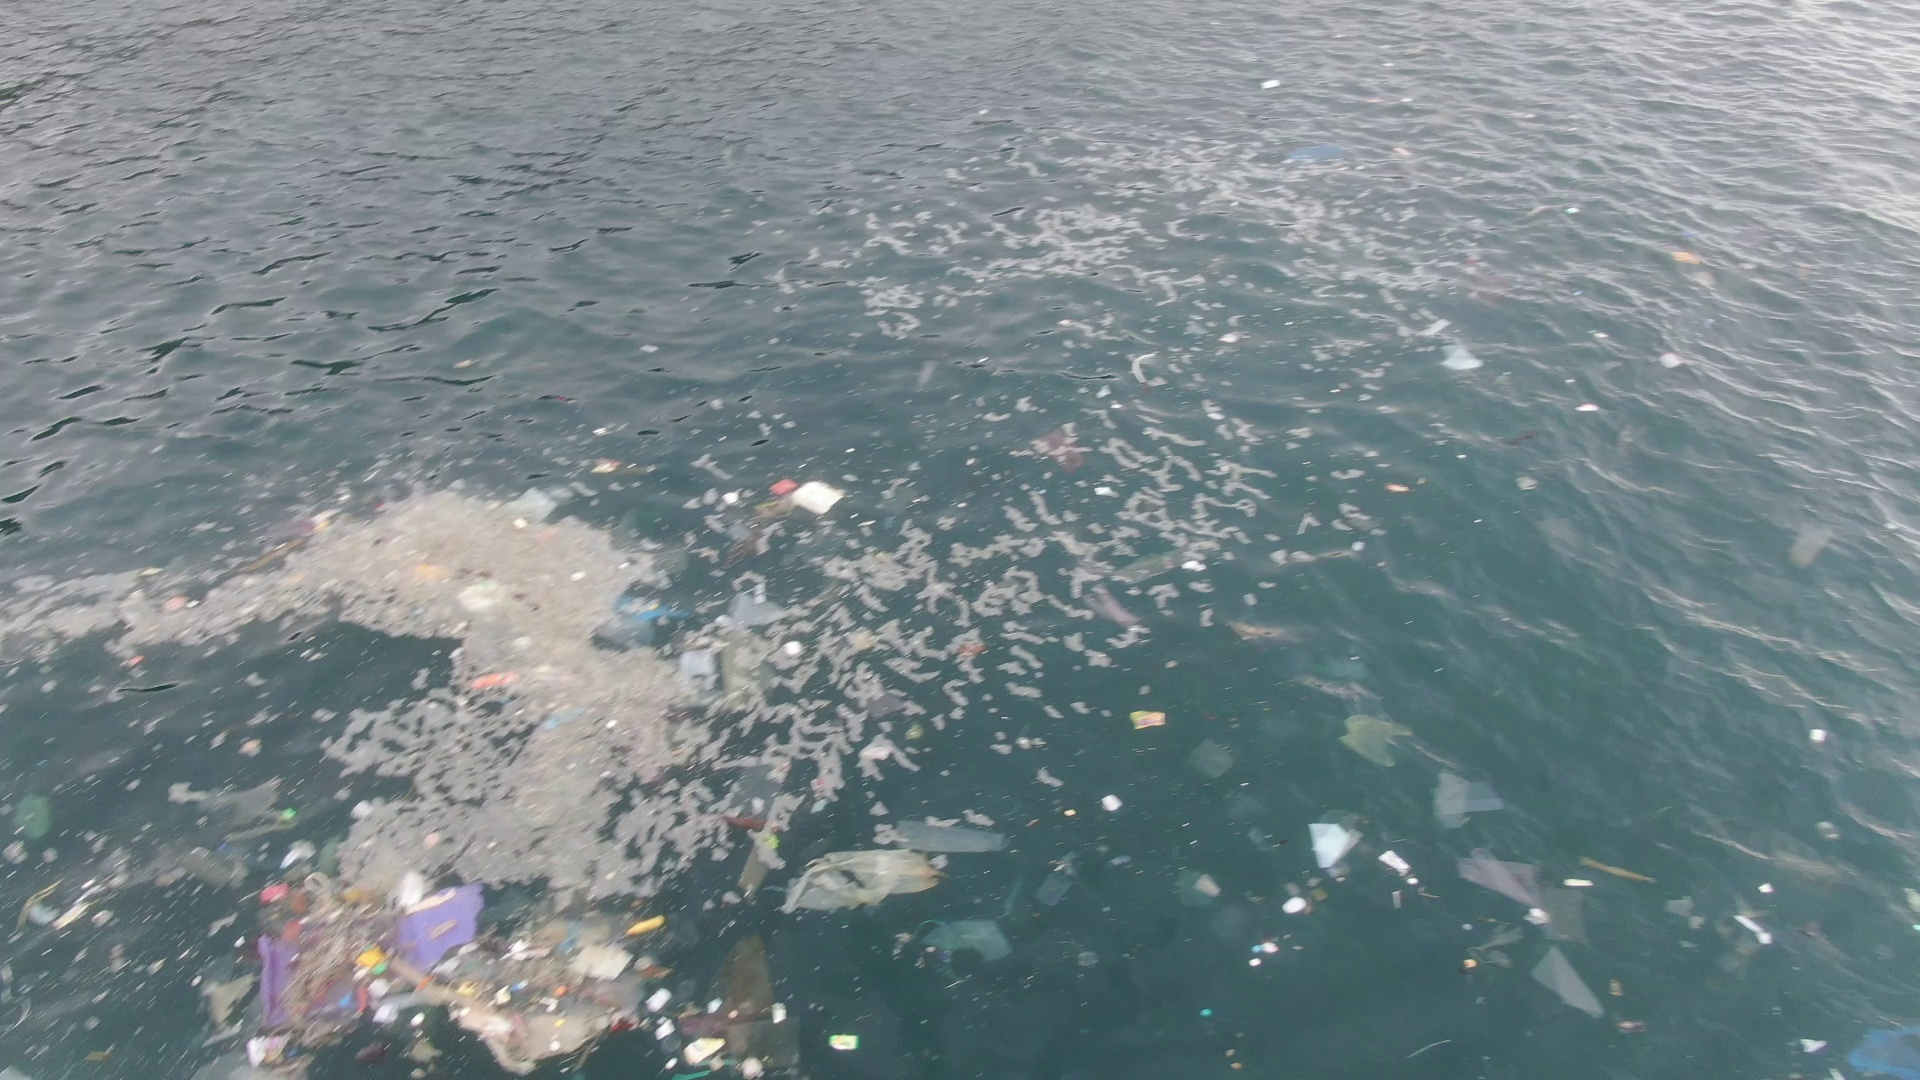garbage: (223, 808, 1018, 1080), (396, 477, 584, 729), (1458, 847, 1614, 1026), (737, 477, 847, 576), (593, 593, 694, 649), (1837, 1022, 1920, 1079), (1433, 767, 1505, 829), (1305, 815, 1366, 884), (1, 785, 51, 861), (1346, 713, 1408, 771), (1036, 427, 1089, 479), (1288, 140, 1348, 165), (1130, 704, 1174, 733)
